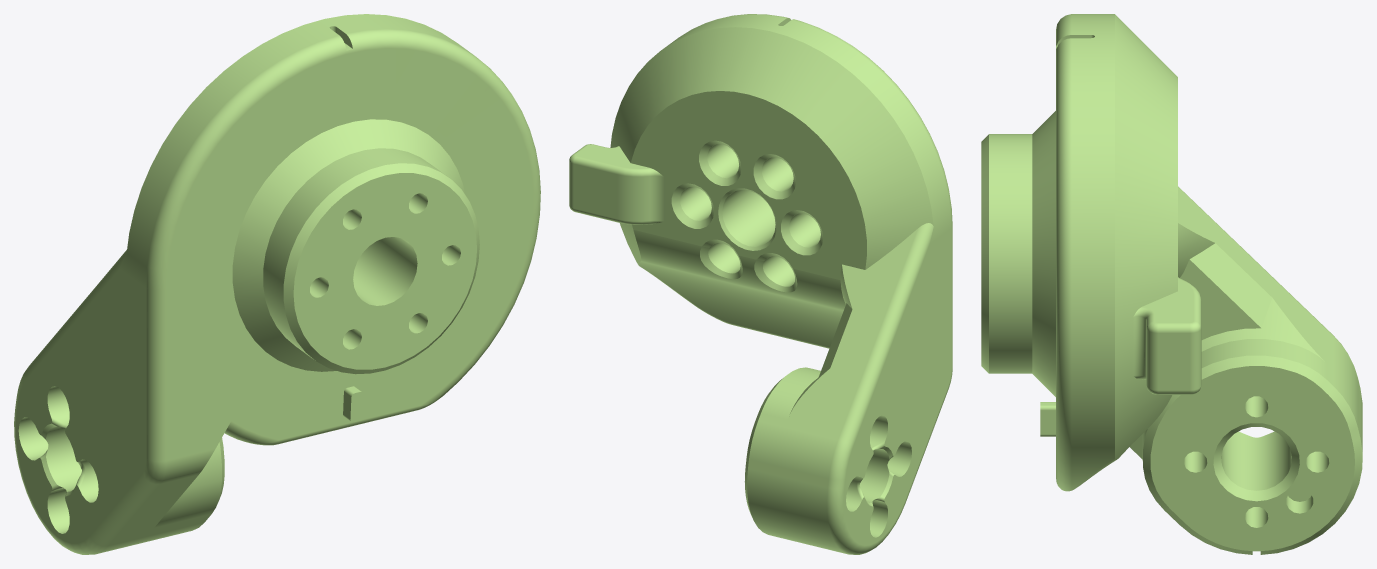
Rendered from Joint_1.001.dae.
The picture shows the model from 3 angles, left to right: view 1: azimuth 30°, elevation 25°; view 2: azimuth 150°, elevation 25°; view 3: azimuth 270°, elevation 25°; orthographic projection. The views are drawn at different scales.
Parts seen in each view (by area): view 1: Joint_1.000; view 2: Joint_1.000; view 3: Joint_1.000.
Boxes of the visible parts, <box> form: Joint_1.000: <box>14,14,540,554</box>; Joint_1.000: <box>569,14,952,554</box>; Joint_1.000: <box>981,14,1362,554</box>.
Size of the model in its own units: 0.0629 by 0.0485 by 0.079.
